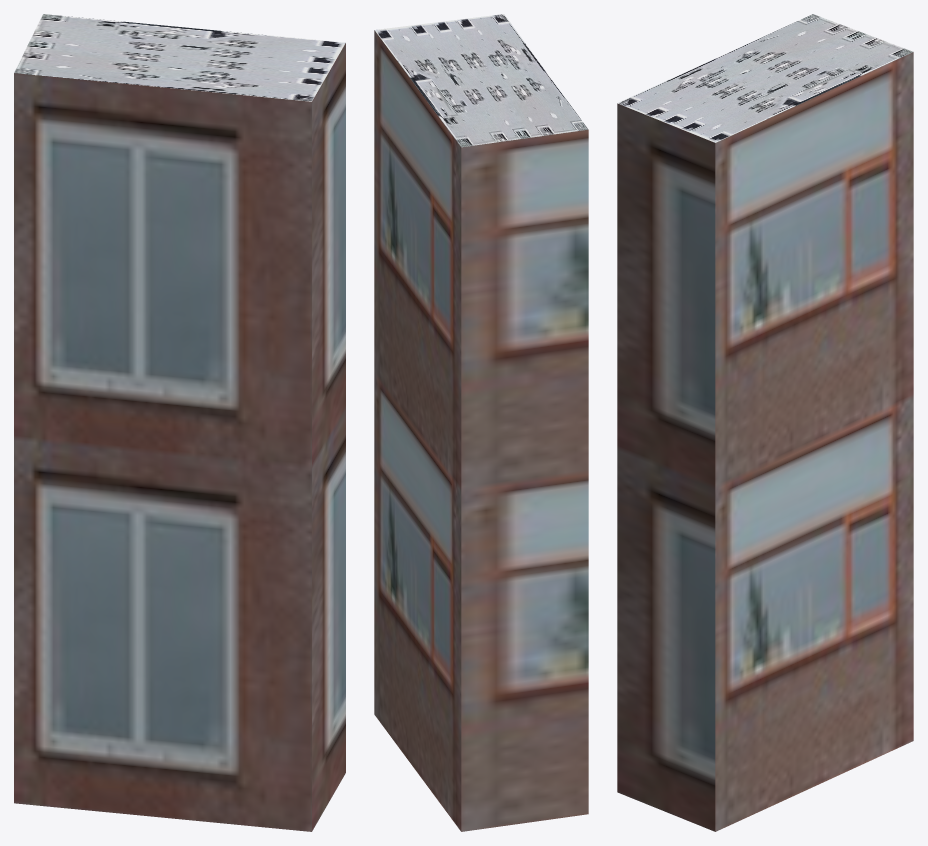
File: ResTex__3192.fbx
3 views of the same model, side by side, from view 1: azimuth 30°, elevation 25°; view 2: azimuth 150°, elevation 25°; view 3: azimuth 270°, elevation 25° (orthographic). The views are drawn at different scales.
Parts seen in each view (by area): view 1: CityEngineMaterial_19_m, CityEngineMaterial_15_m; view 2: CityEngineMaterial_19_m, CityEngineMaterial_15_m; view 3: CityEngineMaterial_19_m, CityEngineMaterial_15_m.
Part boxes in pixels (x1,y1,x2,y2): CityEngineMaterial_19_m: (14, 43, 345, 831); CityEngineMaterial_15_m: (14, 14, 345, 101); CityEngineMaterial_19_m: (374, 30, 588, 831); CityEngineMaterial_15_m: (374, 14, 588, 147); CityEngineMaterial_19_m: (617, 52, 913, 831); CityEngineMaterial_15_m: (617, 14, 913, 142).
Size of the model in its own units: 2.41 by 6 by 2.34.
2 materials, 2 textured.
